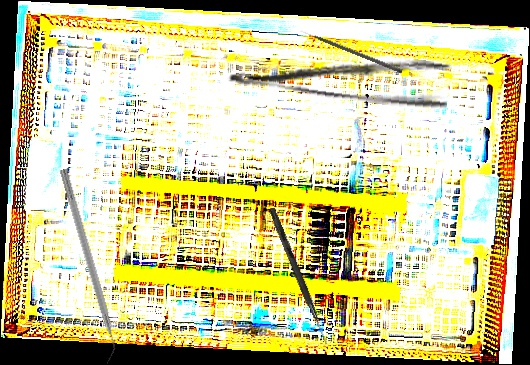Chopper: (48, 168, 123, 365)
Dressing Forceps: (225, 36, 453, 113)
Hook Surgical: (266, 207, 332, 345), (300, 27, 403, 74)
